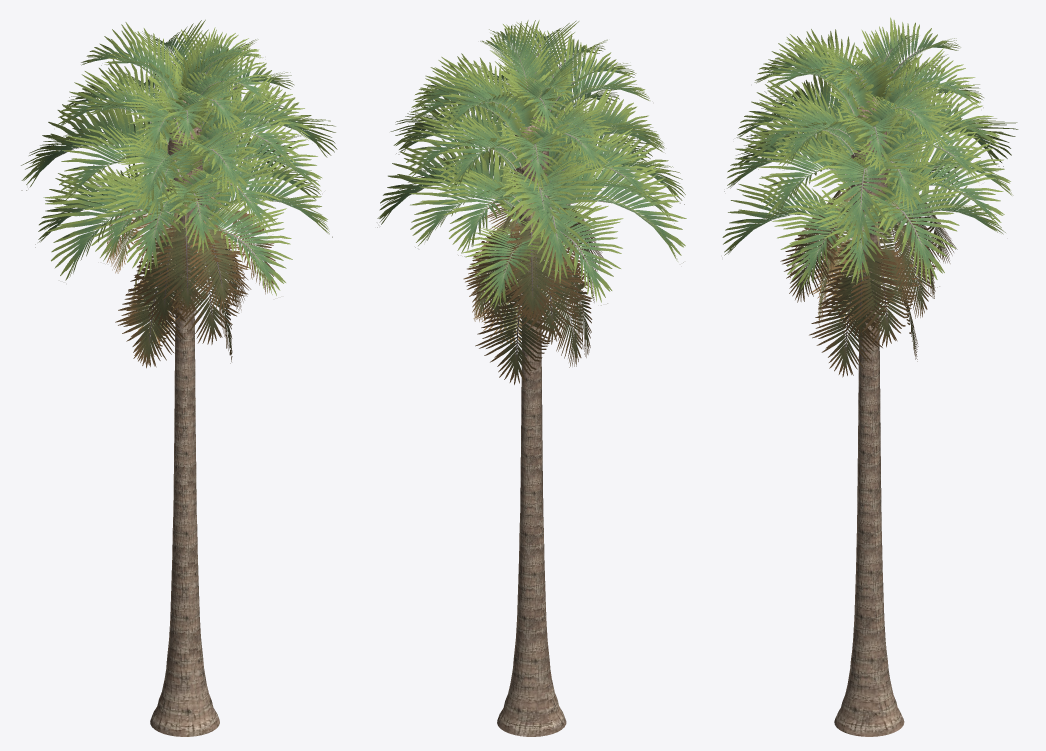
The model's file is palm4.glb.
3 views of the same model, side by side, from view 1: azimuth 30°, elevation 25°; view 2: azimuth 150°, elevation 25°; view 3: azimuth 270°, elevation 25° (orthographic).
Parts seen in each view (by area): view 1: Tree_1; view 2: Tree_1; view 3: Tree_1.
Boxes of the visible parts, x1,y1,x2,y2 form: Tree_1: [21, 19, 337, 736]; Tree_1: [377, 20, 686, 736]; Tree_1: [722, 17, 1018, 736].
Size of the model in its own units: 6.84 by 15.94 by 6.5.
Materials: 2 (2 with a texture image).
